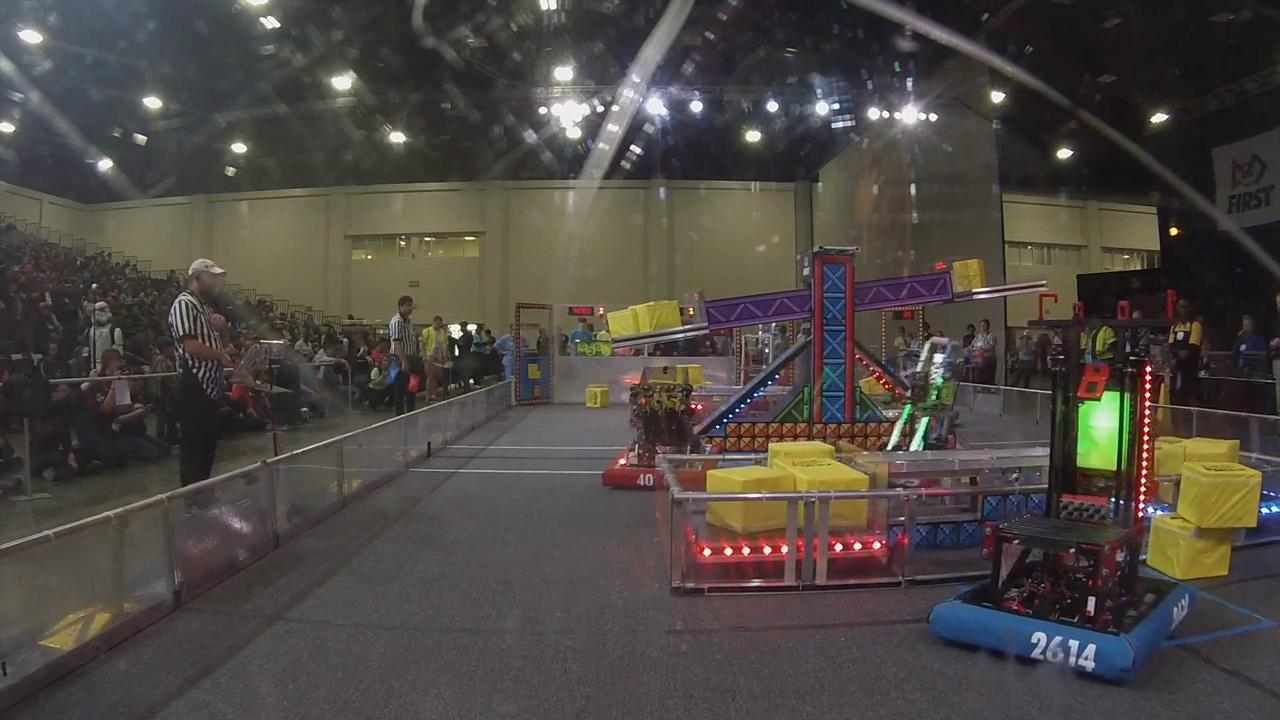robot: (923, 340, 1201, 683), (600, 360, 721, 492)
